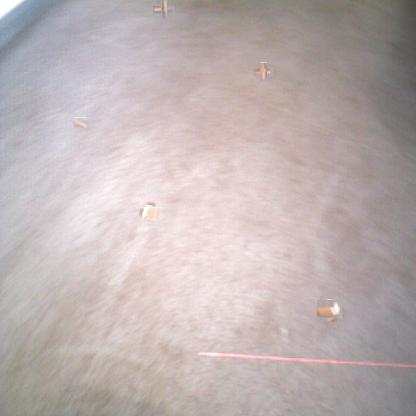dirty: (318, 298, 340, 320), (142, 205, 159, 221), (157, 3, 171, 18), (257, 65, 270, 79), (73, 117, 87, 128)
